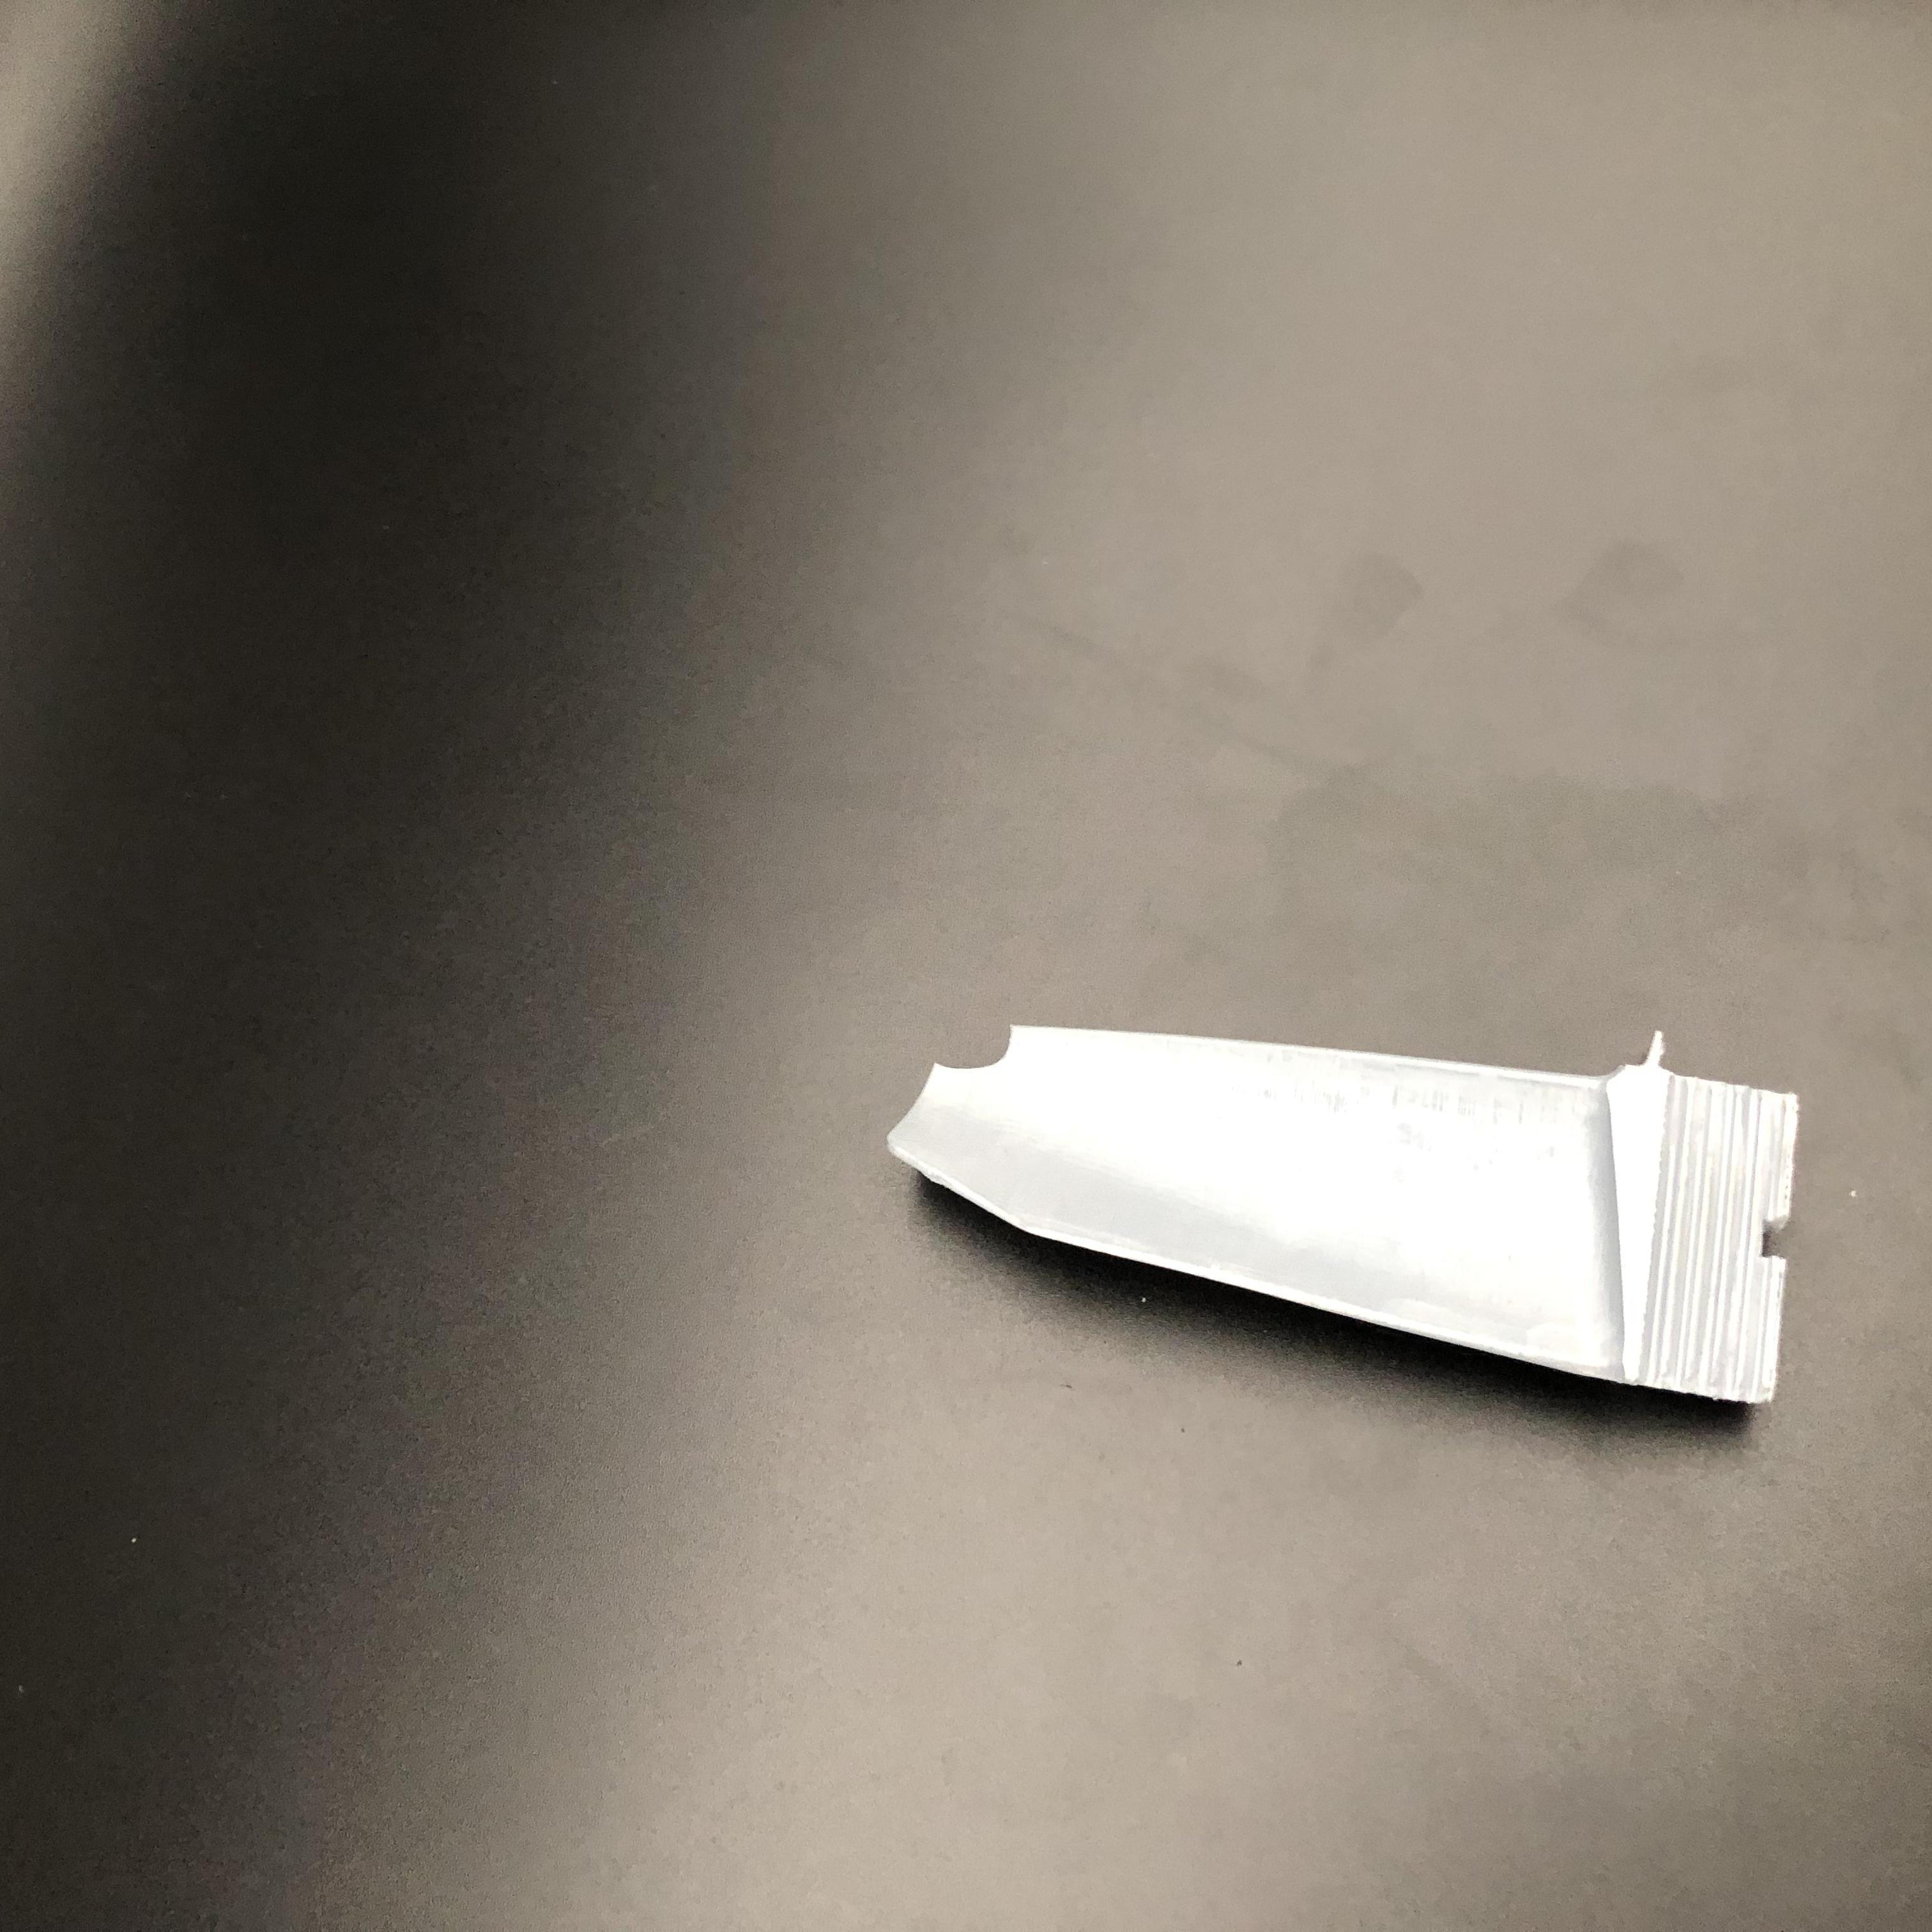fracture: (915, 1028, 1069, 1127)
